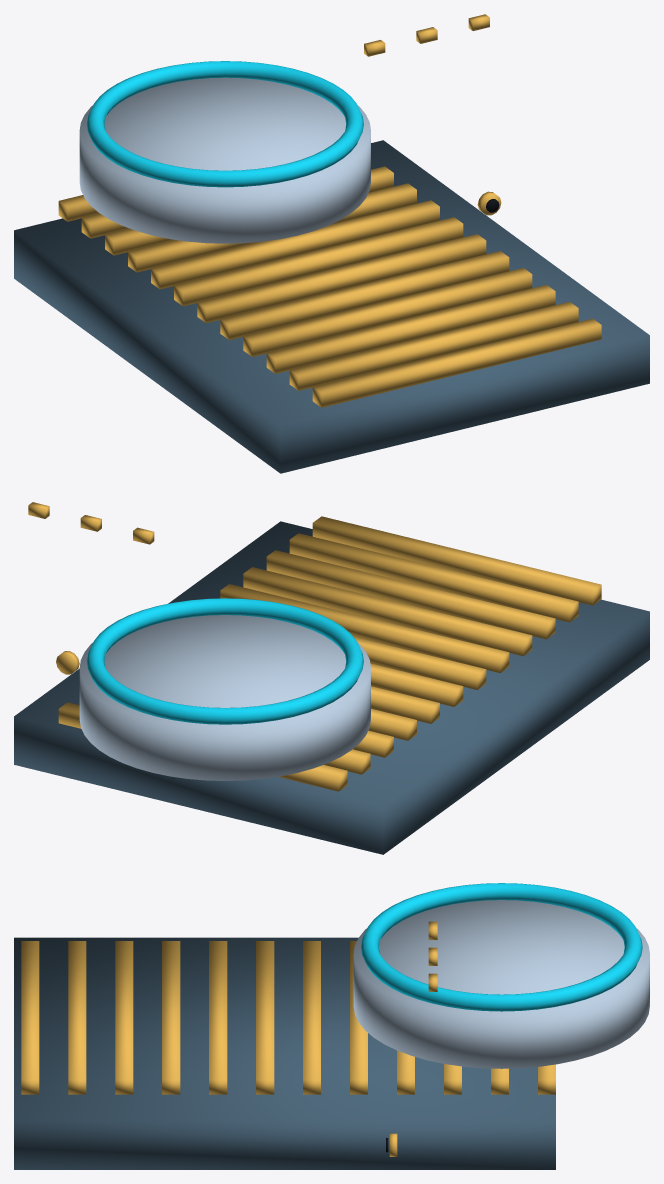
Rendered from 25_L93_CTAngleEncoder.fbx.
The picture shows the model from 3 angles, top to bottom: view 1: azimuth 30°, elevation 25°; view 2: azimuth 150°, elevation 25°; view 3: azimuth 270°, elevation 25°; orthographic projection.
Visible parts, largest first — view 1: L92_CTAngleEncoder_Part_0001, L92_CTAngleEncoder_Part_0000, L92_CTAngleEncoder_Part_0002, L92_CTAngleEncoder_Part_0003, L92_CTAngleEncoder_Part_0004; view 2: L92_CTAngleEncoder_Part_0000, L92_CTAngleEncoder_Part_0001, L92_CTAngleEncoder_Part_0002, L92_CTAngleEncoder_Part_0003, L92_CTAngleEncoder_Part_0004; view 3: L92_CTAngleEncoder_Part_0000, L92_CTAngleEncoder_Part_0002, L92_CTAngleEncoder_Part_0001, L92_CTAngleEncoder_Part_0003, L92_CTAngleEncoder_Part_0004.
Boxes of the visible parts, bbox=[...] form: L92_CTAngleEncoder_Part_0001: bbox=[58, 166, 601, 407]; L92_CTAngleEncoder_Part_0000: bbox=[14, 140, 649, 473]; L92_CTAngleEncoder_Part_0002: bbox=[79, 77, 370, 243]; L92_CTAngleEncoder_Part_0003: bbox=[86, 61, 363, 187]; L92_CTAngleEncoder_Part_0004: bbox=[364, 14, 489, 56]; L92_CTAngleEncoder_Part_0000: bbox=[14, 521, 649, 854]; L92_CTAngleEncoder_Part_0001: bbox=[58, 516, 601, 791]; L92_CTAngleEncoder_Part_0002: bbox=[79, 615, 370, 780]; L92_CTAngleEncoder_Part_0003: bbox=[86, 598, 363, 724]; L92_CTAngleEncoder_Part_0004: bbox=[28, 502, 154, 544]; L92_CTAngleEncoder_Part_0000: bbox=[14, 937, 555, 1169]; L92_CTAngleEncoder_Part_0002: bbox=[353, 900, 649, 1068]; L92_CTAngleEncoder_Part_0001: bbox=[21, 941, 555, 1094]; L92_CTAngleEncoder_Part_0003: bbox=[361, 883, 642, 1011]; L92_CTAngleEncoder_Part_0004: bbox=[428, 921, 437, 991].
Bounding box in the file's own units: 268 × 128 × 352.
